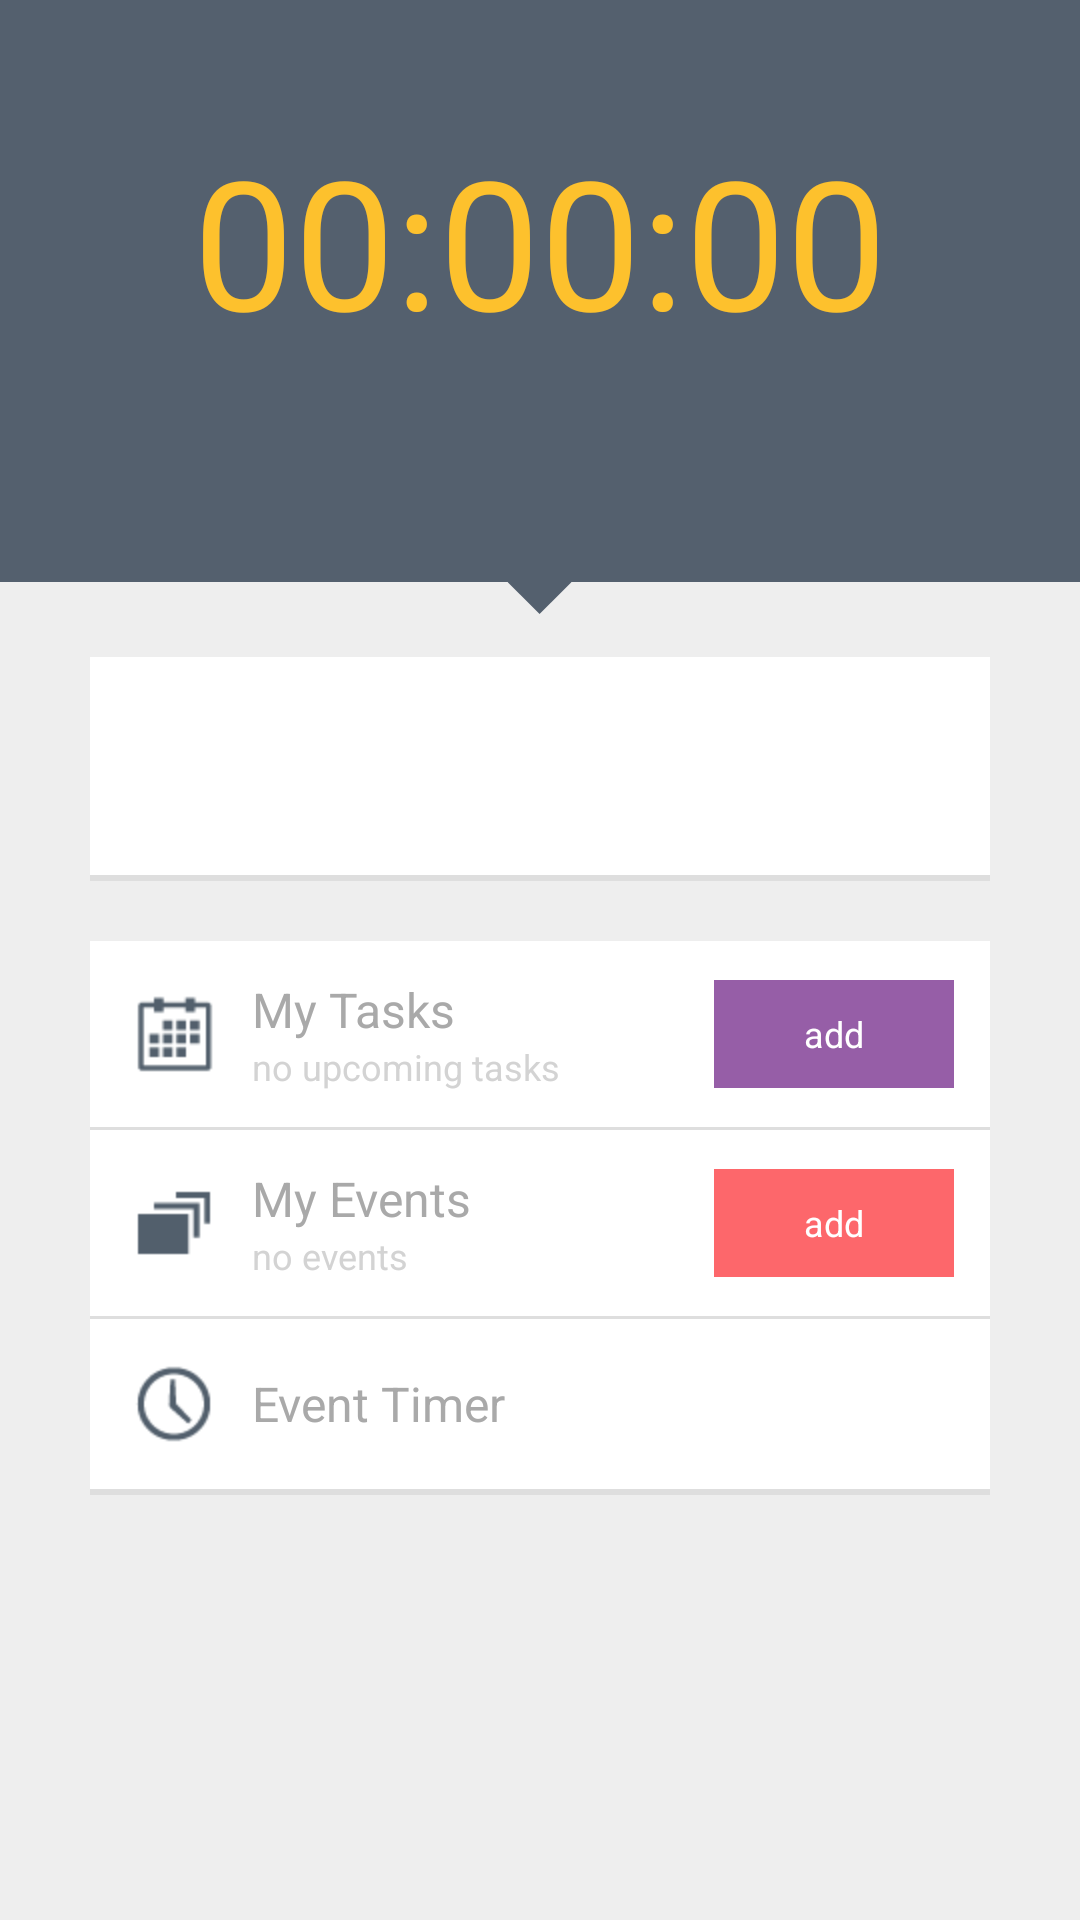

Icons on this 1080w x 1920h Android screen, each with its box as (x1, y1, x2, y2):
triangle: (508, 582, 571, 614)
